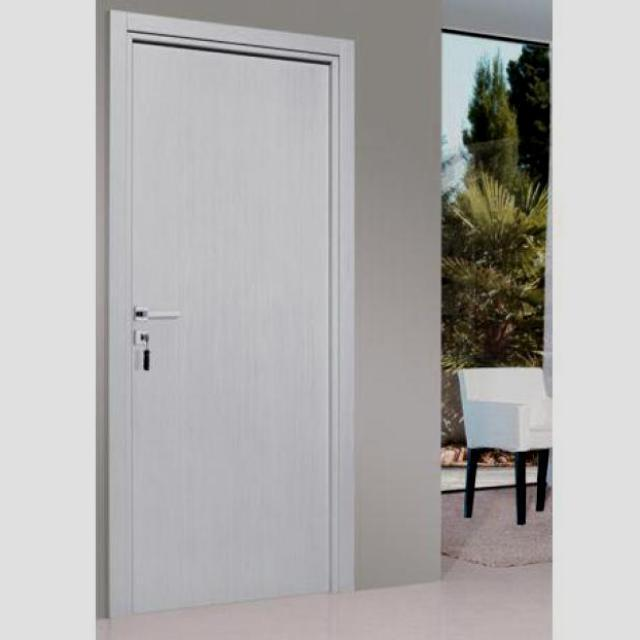door: (110, 12, 349, 616)
